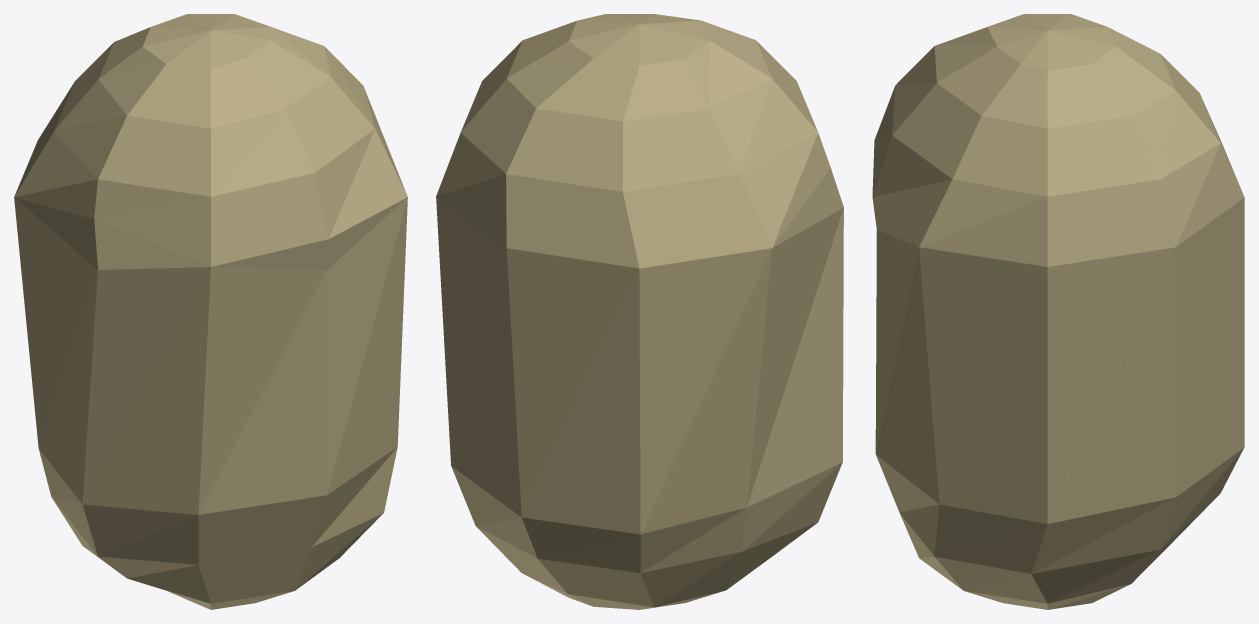
Rendered from papa2.fbx.
3 renders of one model, left to right at view 1: azimuth 30°, elevation 25°; view 2: azimuth 150°, elevation 25°; view 3: azimuth 270°, elevation 25°, orthographic. The views are drawn at different scales.
Visible parts, largest first — view 1: papa; view 2: papa; view 3: papa.
Part boxes in pixels (box(x1,y1,x2,y2)): papa: box(14, 14, 407, 609); papa: box(436, 14, 843, 609); papa: box(872, 14, 1244, 609).
Bounding box in the file's own units: 1.91 × 3 × 1.83.
